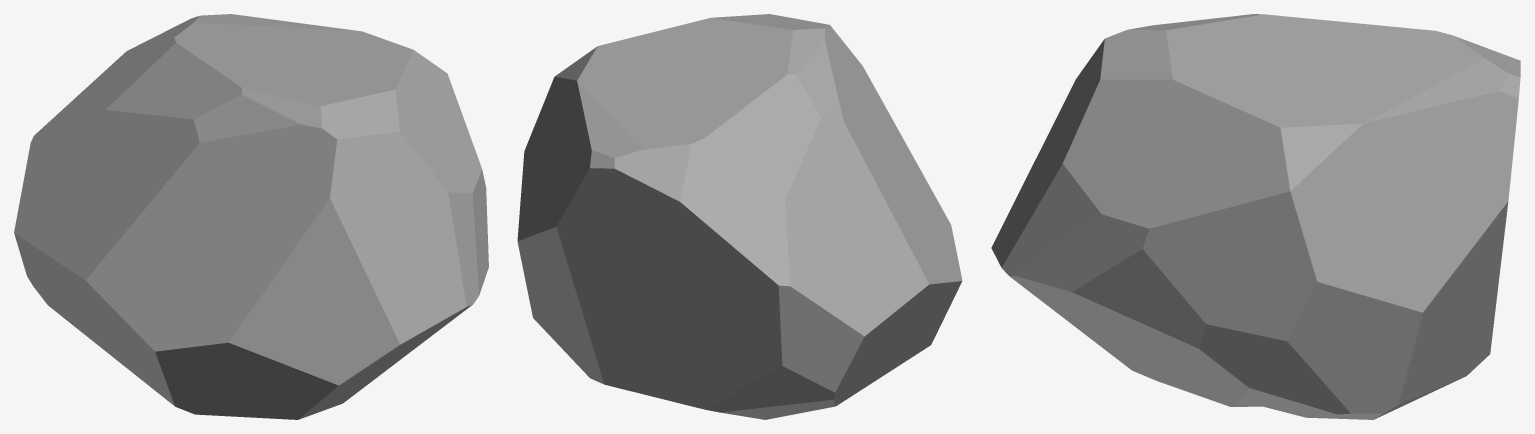
The model's file is HardRock_17.fbx.
The picture shows the model from 3 angles, left to right: view 1: azimuth 30°, elevation 25°; view 2: azimuth 150°, elevation 25°; view 3: azimuth 270°, elevation 25°; orthographic projection. The views are drawn at different scales.
Parts seen in each view (by area): view 1: HardRock_17; view 2: HardRock_17; view 3: HardRock_17.
Boxes of the visible parts, x1,y1,x2,y2 form: HardRock_17: (14,14,488,419); HardRock_17: (517,14,962,419); HardRock_17: (991,14,1520,419).
Size of the model in its own units: 76.61 by 55.45 by 77.8.
